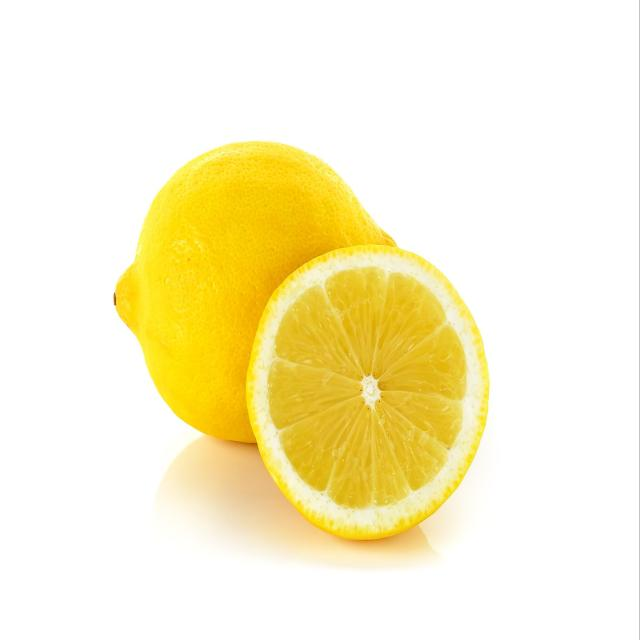lemon: (242, 239, 493, 545)
